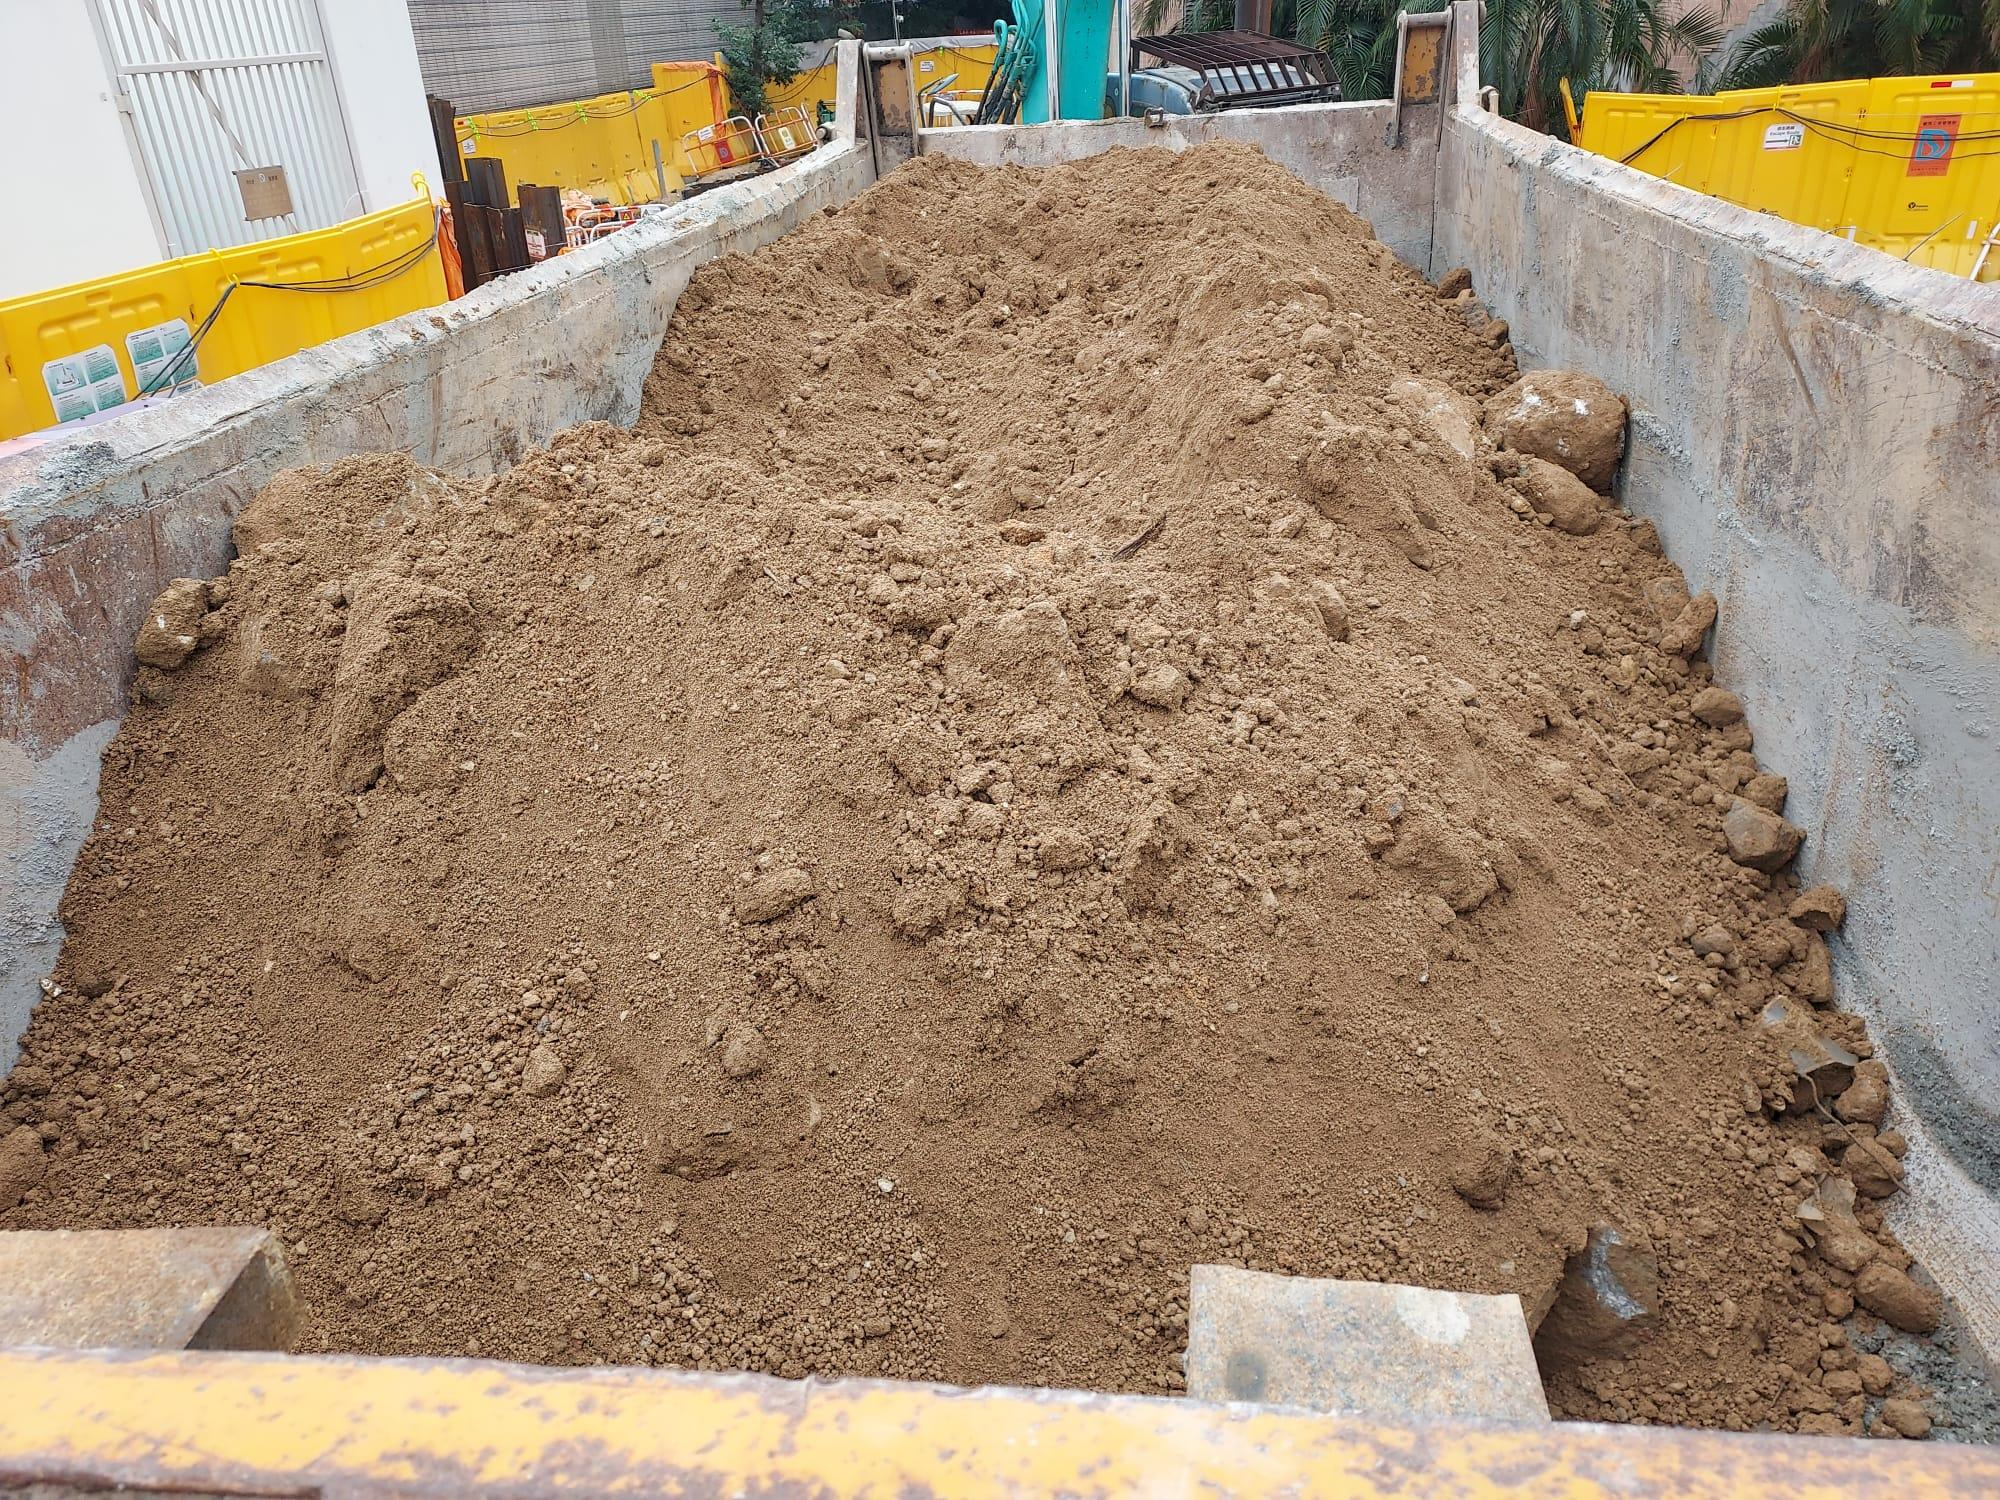dry: (8, 142, 1880, 1431)
